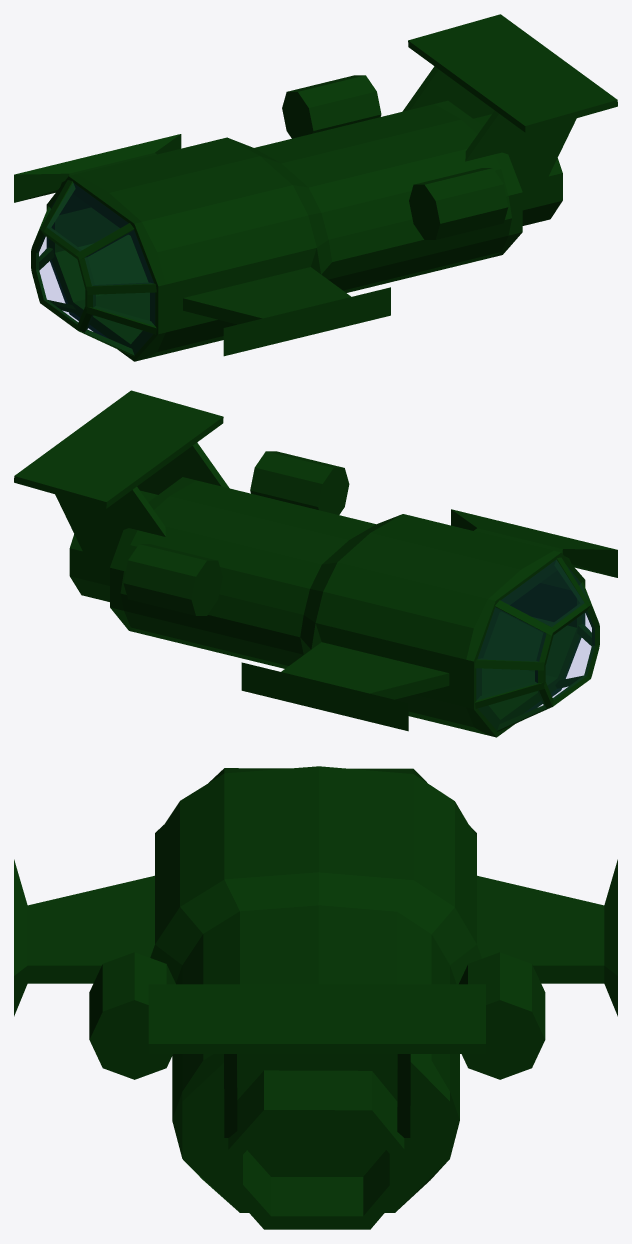
Rendered from P_Submarine.gltf.
3 views of the same model, one above another, from view 1: azimuth 30°, elevation 25°; view 2: azimuth 150°, elevation 25°; view 3: azimuth 270°, elevation 25° (orthographic). The views are drawn at different scales.
Visible parts, largest first — view 1: Submarine; view 2: Submarine; view 3: Submarine.
Boxes of the visible parts, <box> form: Submarine: <box>14,14,617,361</box>; Submarine: <box>14,390,617,737</box>; Submarine: <box>14,766,617,1229</box>.
Size of the model in its own units: 4.93 by 1.65 by 3.58.
